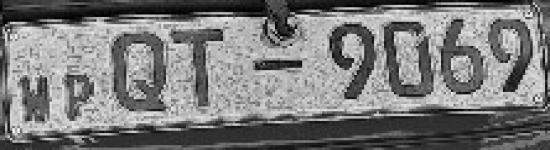-: (248, 54, 307, 76)
0: (380, 14, 438, 102)
6: (436, 13, 488, 99)
9: (324, 17, 379, 103), (488, 13, 535, 98)
P: (59, 68, 100, 125)
Q: (108, 28, 170, 118)
T: (169, 26, 228, 112)
W: (12, 73, 57, 126)
